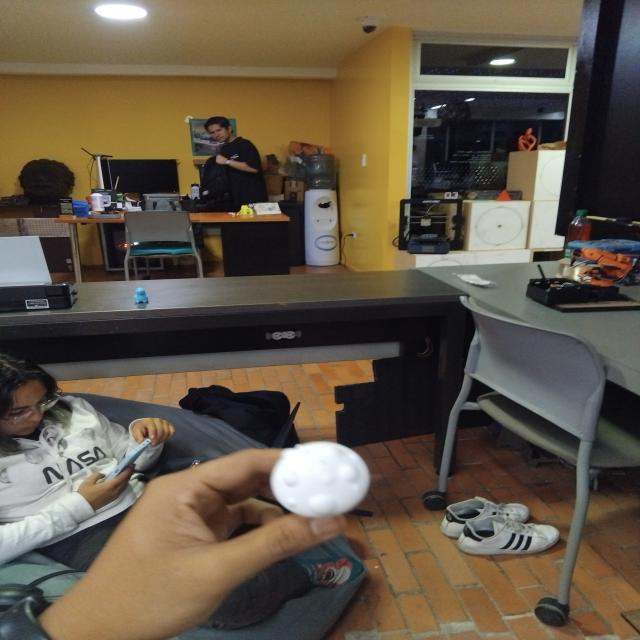Hongo: (262, 442, 378, 517)
